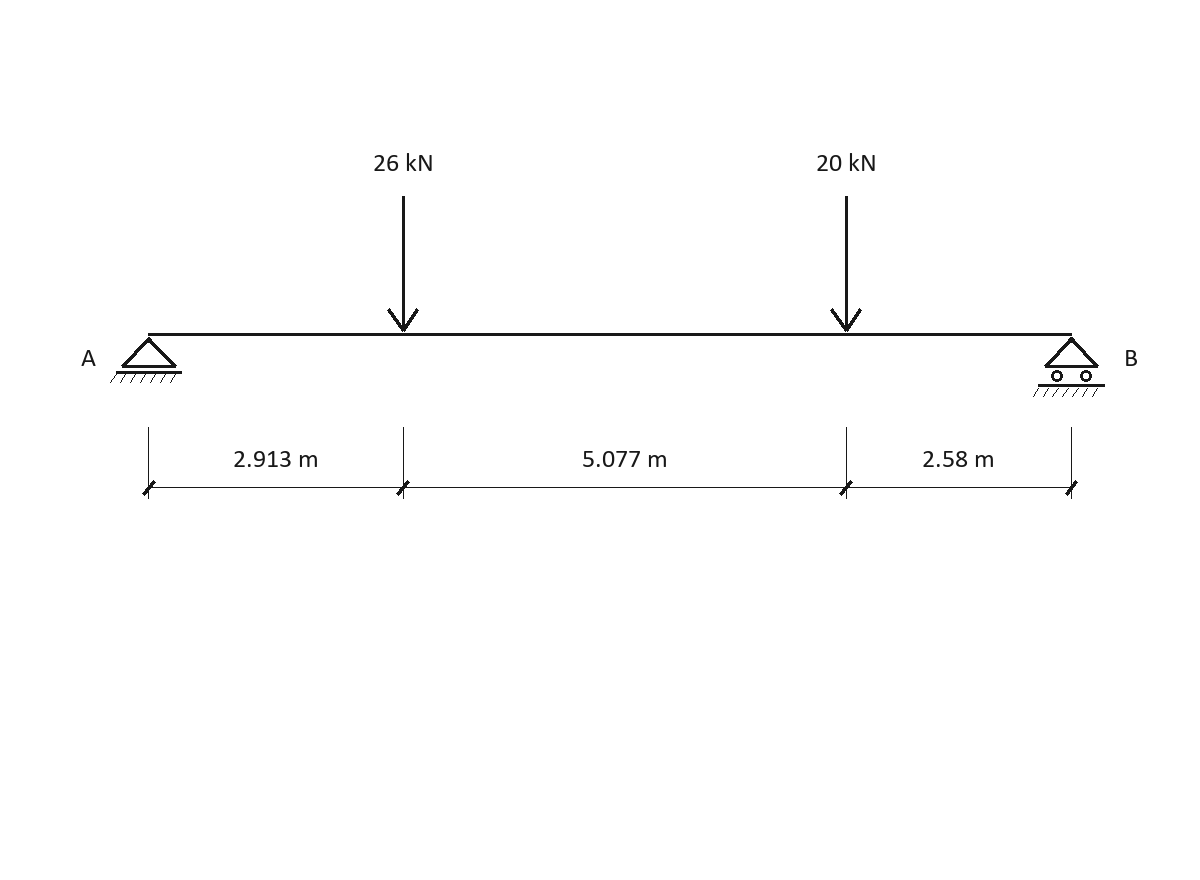pin_support: (110, 337, 182, 383)
point_load: (387, 196, 419, 332), (830, 196, 862, 332)
roller_support: (1033, 337, 1105, 397)
